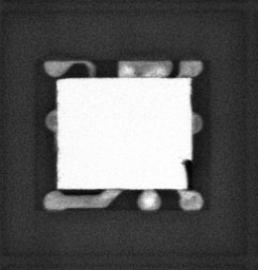DIE_BROKEN: (180, 156, 193, 191)
